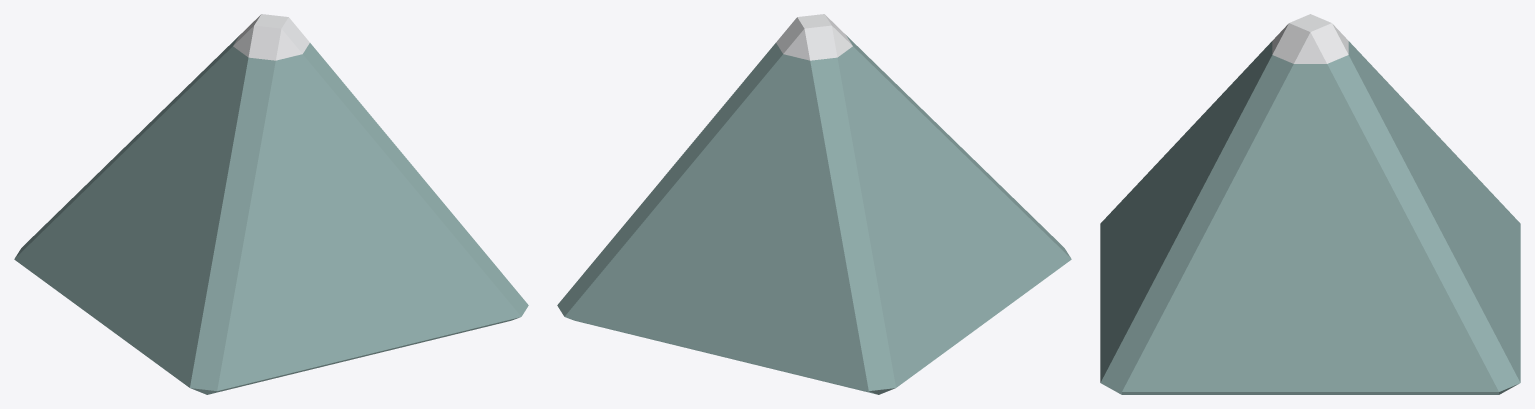
The model's file is Roof_Point_Green_01.glb.
3 views of the same model, side by side, from view 1: azimuth 30°, elevation 25°; view 2: azimuth 150°, elevation 25°; view 3: azimuth 270°, elevation 25° (orthographic). The views are drawn at different scales.
Parts seen in each view (by area): view 1: Mesh1 Roof_Point_Green Model; view 2: Mesh1 Roof_Point_Green Model; view 3: Mesh1 Roof_Point_Green Model.
Boxes of the visible parts, x1=… form: Mesh1 Roof_Point_Green Model: x1=14, y1=14, x2=528, y2=394; Mesh1 Roof_Point_Green Model: x1=557, y1=14, x2=1071, y2=394; Mesh1 Roof_Point_Green Model: x1=1100, y1=14, x2=1520, y2=394.
Bounding box in the file's own units: 3.34 × 2.56 × 3.34.
